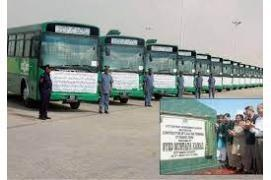bus: (9, 18, 104, 106), (101, 33, 151, 99)
